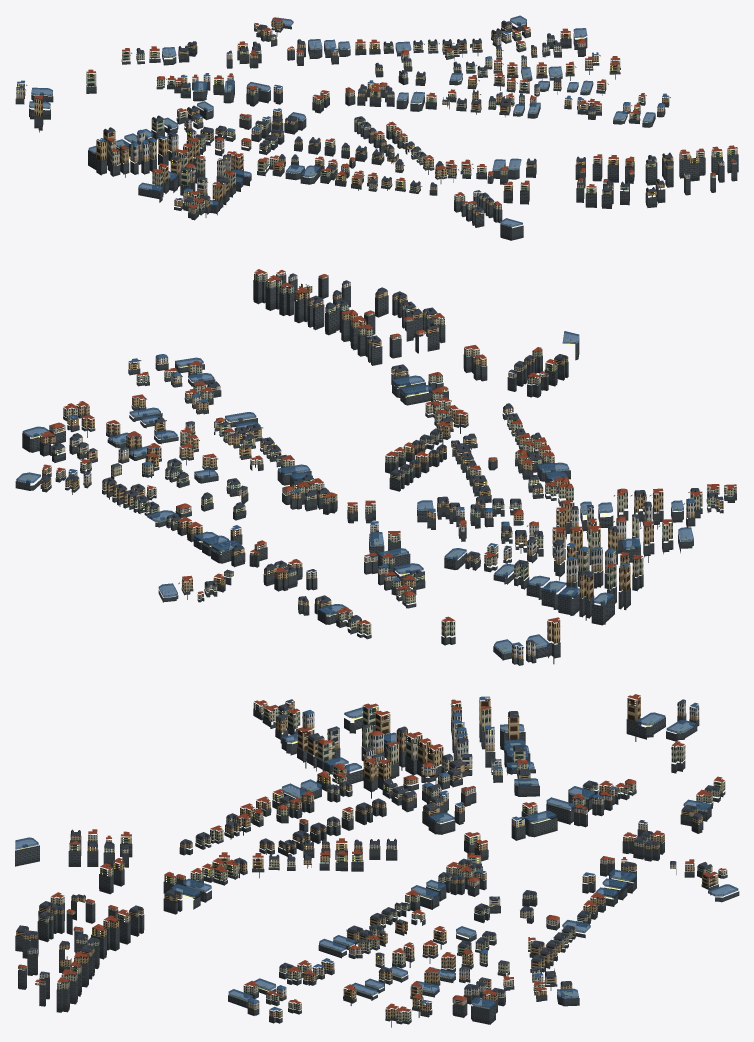
The model's file is osm_buildings_T_E01_N01_Q4.glb.
The picture shows the model from 3 angles, top to bottom: view 1: azimuth 30°, elevation 25°; view 2: azimuth 150°, elevation 25°; view 3: azimuth 270°, elevation 25°; orthographic projection. The views are drawn at different scales.
Visible parts, largest first — view 1: OSM_PBR_T_E01_N01_Q4_foundation, OSM_PBR_T_E01_N01_Q4_wall_french_ochre, OSM_PBR_T_E01_N01_Q4_wall_cream_stucco, OSM_PBR_T_E01_N01_Q4_greenhouse_blend, OSM_PBR_T_E01_N01_Q4_roof_terracotta, OSM_PBR_T_E01_N01_Q4_roof_mansard_slate, OSM_PBR_T_E01_N01_Q4_roof_mansard_deck, OSM_PBR_T_E01_N01_Q4_wall_warm_white, OSM_PBR_T_E01_N01_Q4_wall_pastel_sand, OSM_PBR_T_E01_N01_Q4_balcony_railing, OSM_PBR_T_E01_N01_Q4_roof_mint_metal, OSM_PBR_T_E01_N01_Q4_trim_cornice (+2 smaller); view 2: OSM_PBR_T_E01_N01_Q4_foundation, OSM_PBR_T_E01_N01_Q4_wall_french_ochre, OSM_PBR_T_E01_N01_Q4_wall_cream_stucco, OSM_PBR_T_E01_N01_Q4_greenhouse_blend, OSM_PBR_T_E01_N01_Q4_roof_terracotta, OSM_PBR_T_E01_N01_Q4_roof_mansard_slate, OSM_PBR_T_E01_N01_Q4_roof_mansard_deck, OSM_PBR_T_E01_N01_Q4_wall_warm_white, OSM_PBR_T_E01_N01_Q4_wall_pastel_sand, OSM_PBR_T_E01_N01_Q4_trim_cornice, OSM_PBR_T_E01_N01_Q4_roof_mint_metal, OSM_PBR_T_E01_N01_Q4_roof_alpine_blue (+2 smaller); view 3: OSM_PBR_T_E01_N01_Q4_foundation, OSM_PBR_T_E01_N01_Q4_wall_french_ochre, OSM_PBR_T_E01_N01_Q4_wall_cream_stucco, OSM_PBR_T_E01_N01_Q4_greenhouse_blend, OSM_PBR_T_E01_N01_Q4_roof_terracotta, OSM_PBR_T_E01_N01_Q4_roof_mansard_slate, OSM_PBR_T_E01_N01_Q4_roof_mansard_deck, OSM_PBR_T_E01_N01_Q4_wall_pastel_sand, OSM_PBR_T_E01_N01_Q4_wall_warm_white, OSM_PBR_T_E01_N01_Q4_roof_mint_metal, OSM_PBR_T_E01_N01_Q4_trim_cornice, OSM_PBR_T_E01_N01_Q4_window_emissive_warm (+2 smaller).
Part boxes in pixels (x1,y1,x2,y2): OSM_PBR_T_E01_N01_Q4_foundation: (15,22,738,240); OSM_PBR_T_E01_N01_Q4_wall_french_ochre: (34,20,699,215); OSM_PBR_T_E01_N01_Q4_wall_cream_stucco: (86,24,737,214); OSM_PBR_T_E01_N01_Q4_greenhouse_blend: (29,15,655,227); OSM_PBR_T_E01_N01_Q4_roof_terracotta: (34,17,737,208); OSM_PBR_T_E01_N01_Q4_roof_mansard_slate: (16,21,723,211); OSM_PBR_T_E01_N01_Q4_roof_mansard_deck: (31,20,671,226); OSM_PBR_T_E01_N01_Q4_wall_warm_white: (17,33,736,194); OSM_PBR_T_E01_N01_Q4_wall_pastel_sand: (16,51,724,205); OSM_PBR_T_E01_N01_Q4_balcony_railing: (43,21,736,213); OSM_PBR_T_E01_N01_Q4_roof_mint_metal: (34,25,737,215); OSM_PBR_T_E01_N01_Q4_trim_cornice: (17,20,734,213); OSM_PBR_T_E01_N01_Q4_foundation: (15,275,736,665); OSM_PBR_T_E01_N01_Q4_wall_french_ochre: (40,283,723,643); OSM_PBR_T_E01_N01_Q4_wall_cream_stucco: (52,271,736,636); OSM_PBR_T_E01_N01_Q4_greenhouse_blend: (16,331,693,654); OSM_PBR_T_E01_N01_Q4_roof_terracotta: (40,269,736,624); OSM_PBR_T_E01_N01_Q4_roof_mansard_slate: (41,273,723,643); OSM_PBR_T_E01_N01_Q4_roof_mansard_deck: (16,287,717,653); OSM_PBR_T_E01_N01_Q4_wall_warm_white: (49,272,652,659); OSM_PBR_T_E01_N01_Q4_wall_pastel_sand: (155,275,694,656); OSM_PBR_T_E01_N01_Q4_trim_cornice: (41,272,736,647); OSM_PBR_T_E01_N01_Q4_roof_mint_metal: (40,280,734,631); OSM_PBR_T_E01_N01_Q4_roof_alpine_blue: (68,354,694,646); OSM_PBR_T_E01_N01_Q4_foundation: (15,709,739,1027); OSM_PBR_T_E01_N01_Q4_wall_french_ochre: (16,696,718,1018); OSM_PBR_T_E01_N01_Q4_wall_cream_stucco: (18,702,727,1021); OSM_PBR_T_E01_N01_Q4_greenhouse_blend: (15,706,738,1009); OSM_PBR_T_E01_N01_Q4_roof_terracotta: (18,694,726,1011); OSM_PBR_T_E01_N01_Q4_roof_mansard_slate: (16,699,720,992); OSM_PBR_T_E01_N01_Q4_roof_mansard_deck: (17,704,735,1008); OSM_PBR_T_E01_N01_Q4_wall_pastel_sand: (27,700,685,1009); OSM_PBR_T_E01_N01_Q4_wall_warm_white: (35,705,699,1005); OSM_PBR_T_E01_N01_Q4_roof_mint_metal: (21,703,723,1019); OSM_PBR_T_E01_N01_Q4_trim_cornice: (16,698,723,1017); OSM_PBR_T_E01_N01_Q4_window_emissive_warm: (20,703,720,1008).
Bounding box in the file's own units: 1000 × 86.07 × 1005.
18 materials, 16 textured.
